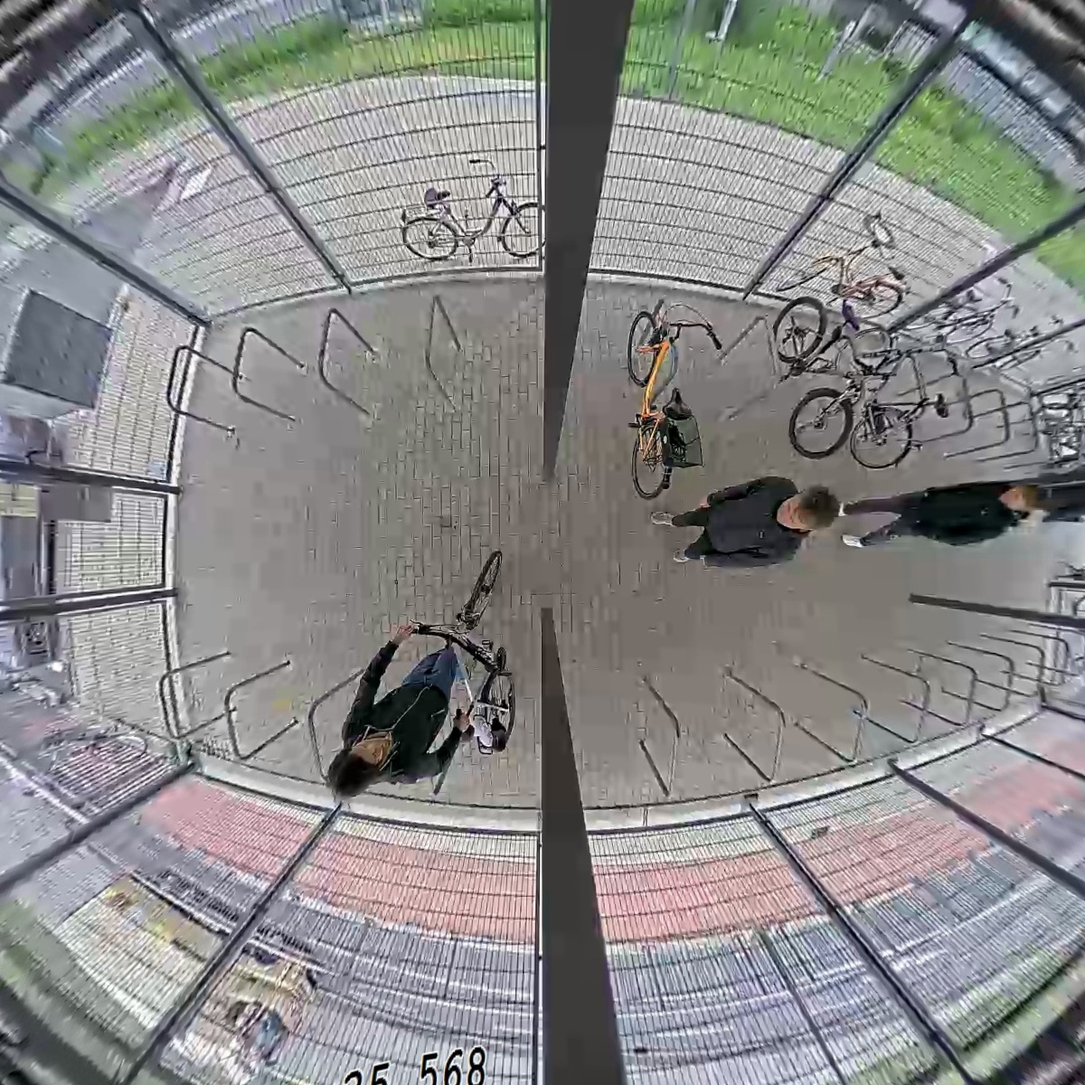bicylce: (410, 551, 516, 763), (767, 290, 891, 458), (624, 299, 704, 504), (827, 322, 926, 471)
saddle: (828, 295, 872, 338), (659, 378, 696, 424), (926, 386, 954, 432), (449, 702, 474, 746)
